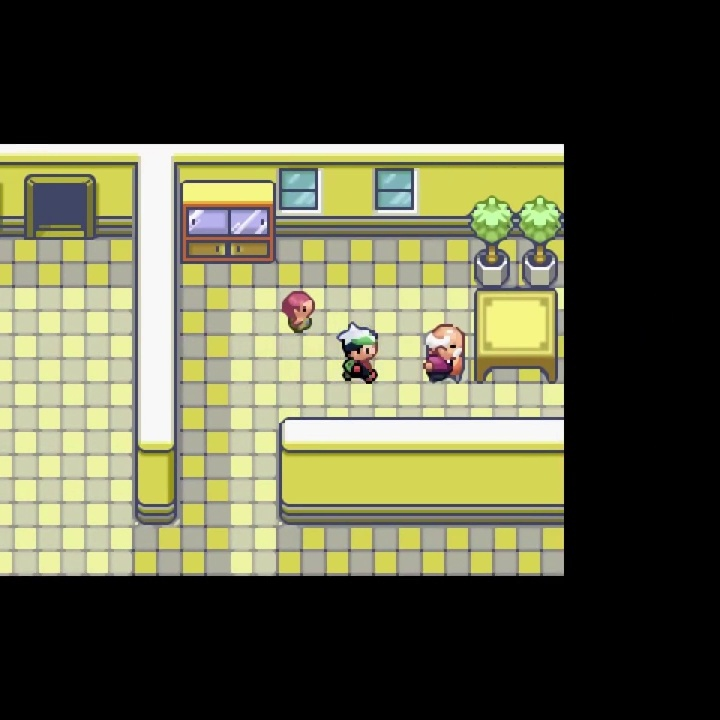npc: (334, 320, 383, 387), (420, 321, 466, 384), (280, 288, 319, 339)
